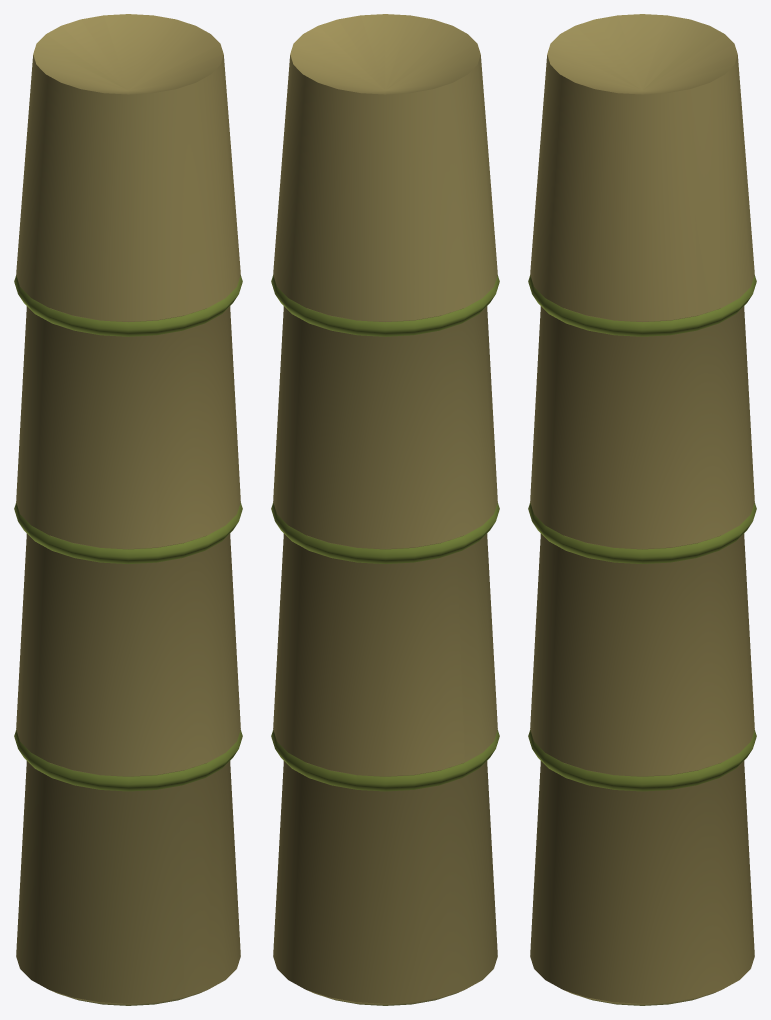
File: mire_cane_post.glb
3 renders of one model, left to right at view 1: azimuth 30°, elevation 25°; view 2: azimuth 150°, elevation 25°; view 3: azimuth 270°, elevation 25°, orthographic.
Visible parts, largest first — view 1: mire_cane_post; view 2: mire_cane_post; view 3: mire_cane_post.
Boxes of the visible parts, x1=… form: mire_cane_post: x1=14, y1=14, x2=242, y2=1005; mire_cane_post: x1=271, y1=14, x2=499, y2=1005; mire_cane_post: x1=528, y1=14, x2=756, y2=1005.
Bounding box in the file's own units: 2.28 × 10 × 2.28.
